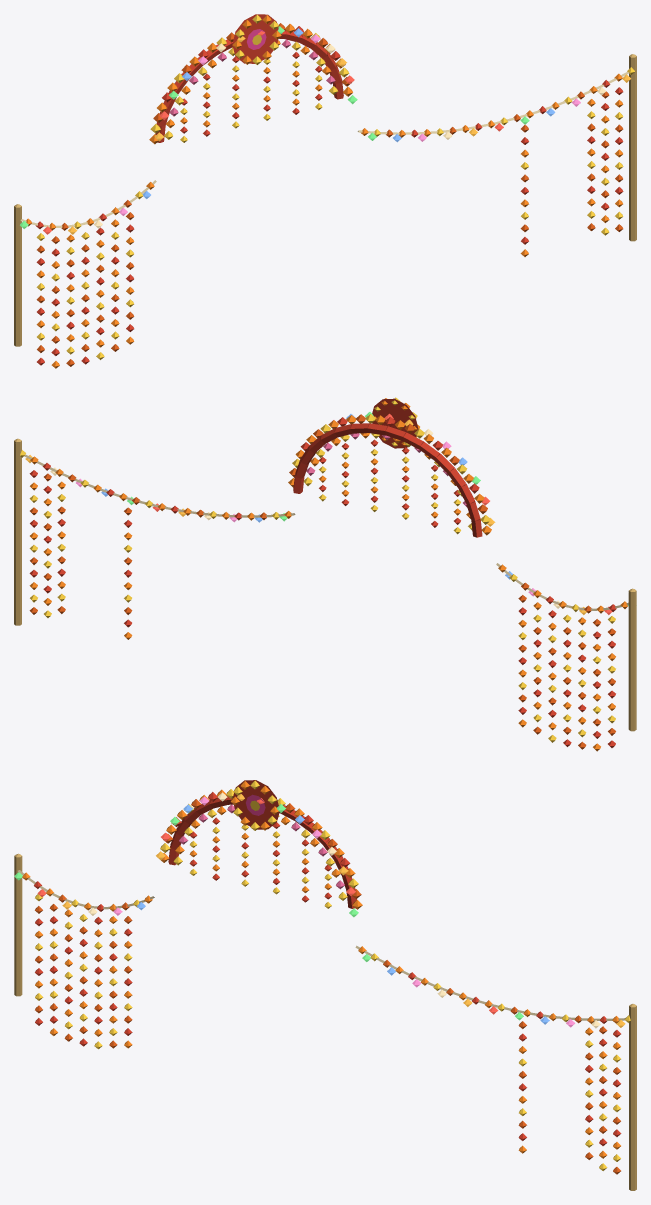
The model's file is deco_baraat.glb.
The picture shows the model from 3 angles, top to bottom: view 1: azimuth 30°, elevation 25°; view 2: azimuth 150°, elevation 25°; view 3: azimuth 330°, elevation 25°; orthographic projection.
Parts seen in each view (by area): view 1: deco_baraat, fairy_bulb_baraat; view 2: deco_baraat, fairy_bulb_baraat; view 3: deco_baraat, fairy_bulb_baraat.
Boxes of the visible parts, x1,y1,x2,y2 form: deco_baraat: (14, 14, 636, 368); fairy_bulb_baraat: (20, 26, 631, 234); deco_baraat: (14, 397, 636, 751); fairy_bulb_baraat: (25, 412, 628, 614); deco_baraat: (14, 780, 636, 1190); fairy_bulb_baraat: (14, 792, 625, 1028).
Size of the model in its own units: 6.26 by 3.07 by 0.2548.
Materials: 2 (1 with a texture image).
